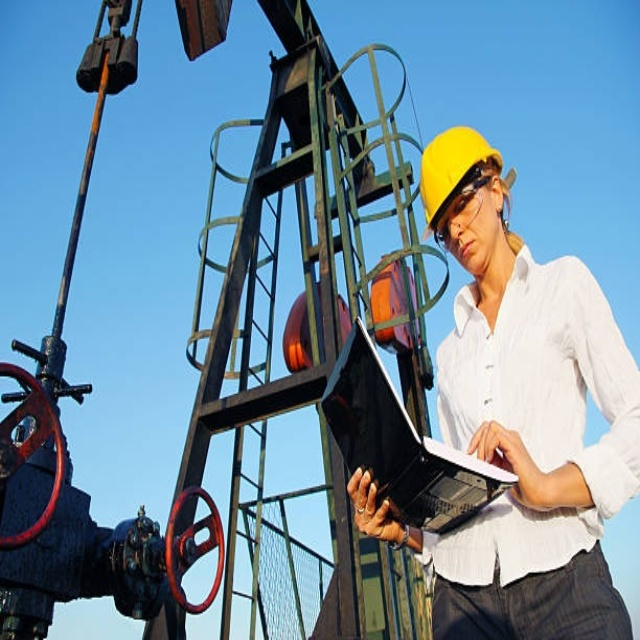Gafas: (433, 164, 496, 245)
Sin_guantes: (466, 416, 543, 515), (349, 467, 406, 544)
Sin_mascara: (457, 235, 483, 264)
